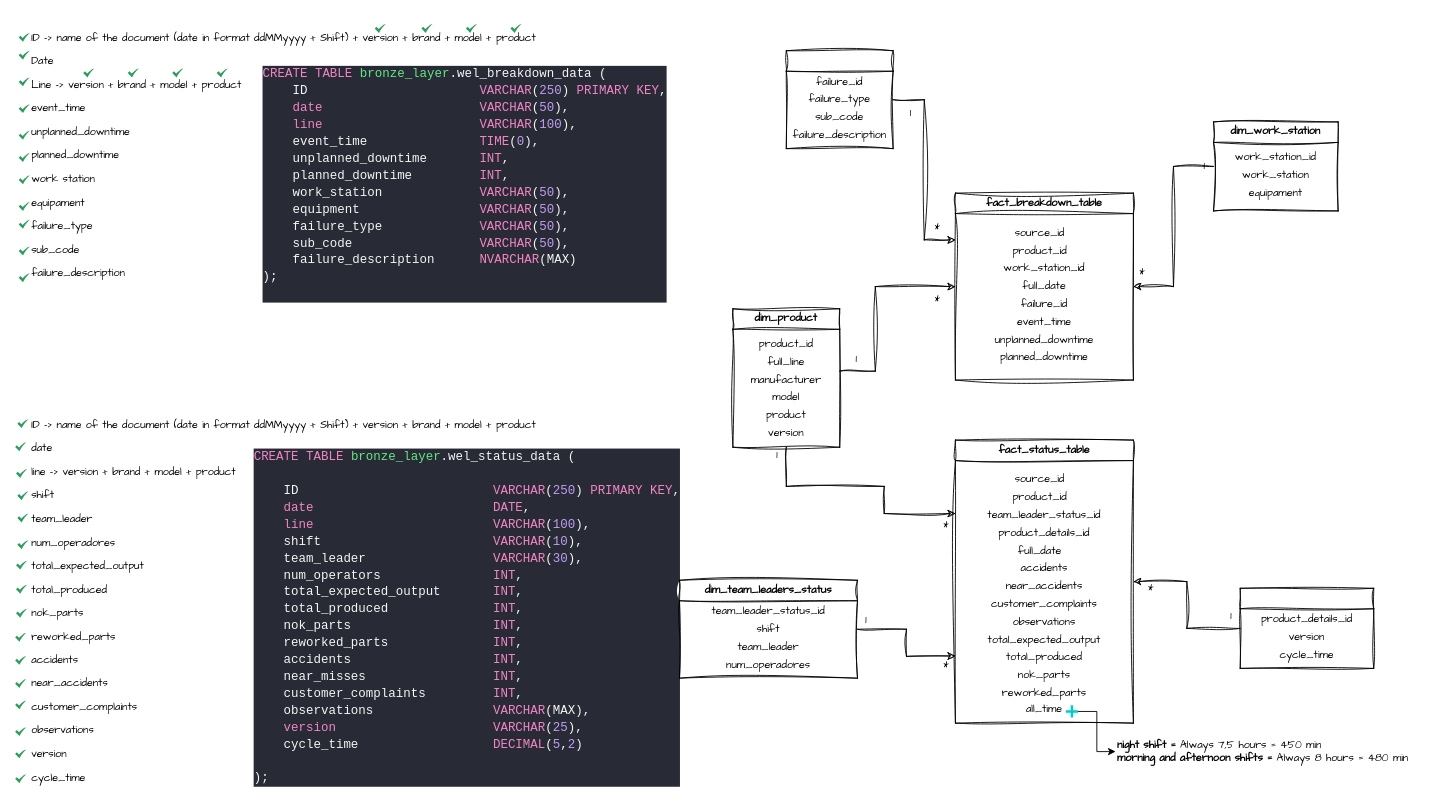
Image size: 1443x810. Some labels were removed from this diagram. The box of each missing label's shape, as (x1, y1, x2, y2) in pixels:
dim_failures: (785, 50, 893, 149)
dim_product_details: (1239, 587, 1374, 668)
